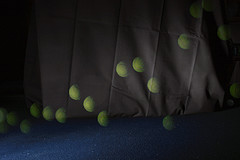tennis ball: (95, 107, 113, 129), (147, 75, 164, 97), (27, 101, 46, 120), (131, 55, 151, 73), (68, 81, 85, 102), (115, 60, 133, 79), (176, 32, 195, 50), (160, 114, 180, 131), (82, 95, 98, 114), (56, 107, 72, 124), (42, 104, 56, 123), (227, 80, 240, 99)
